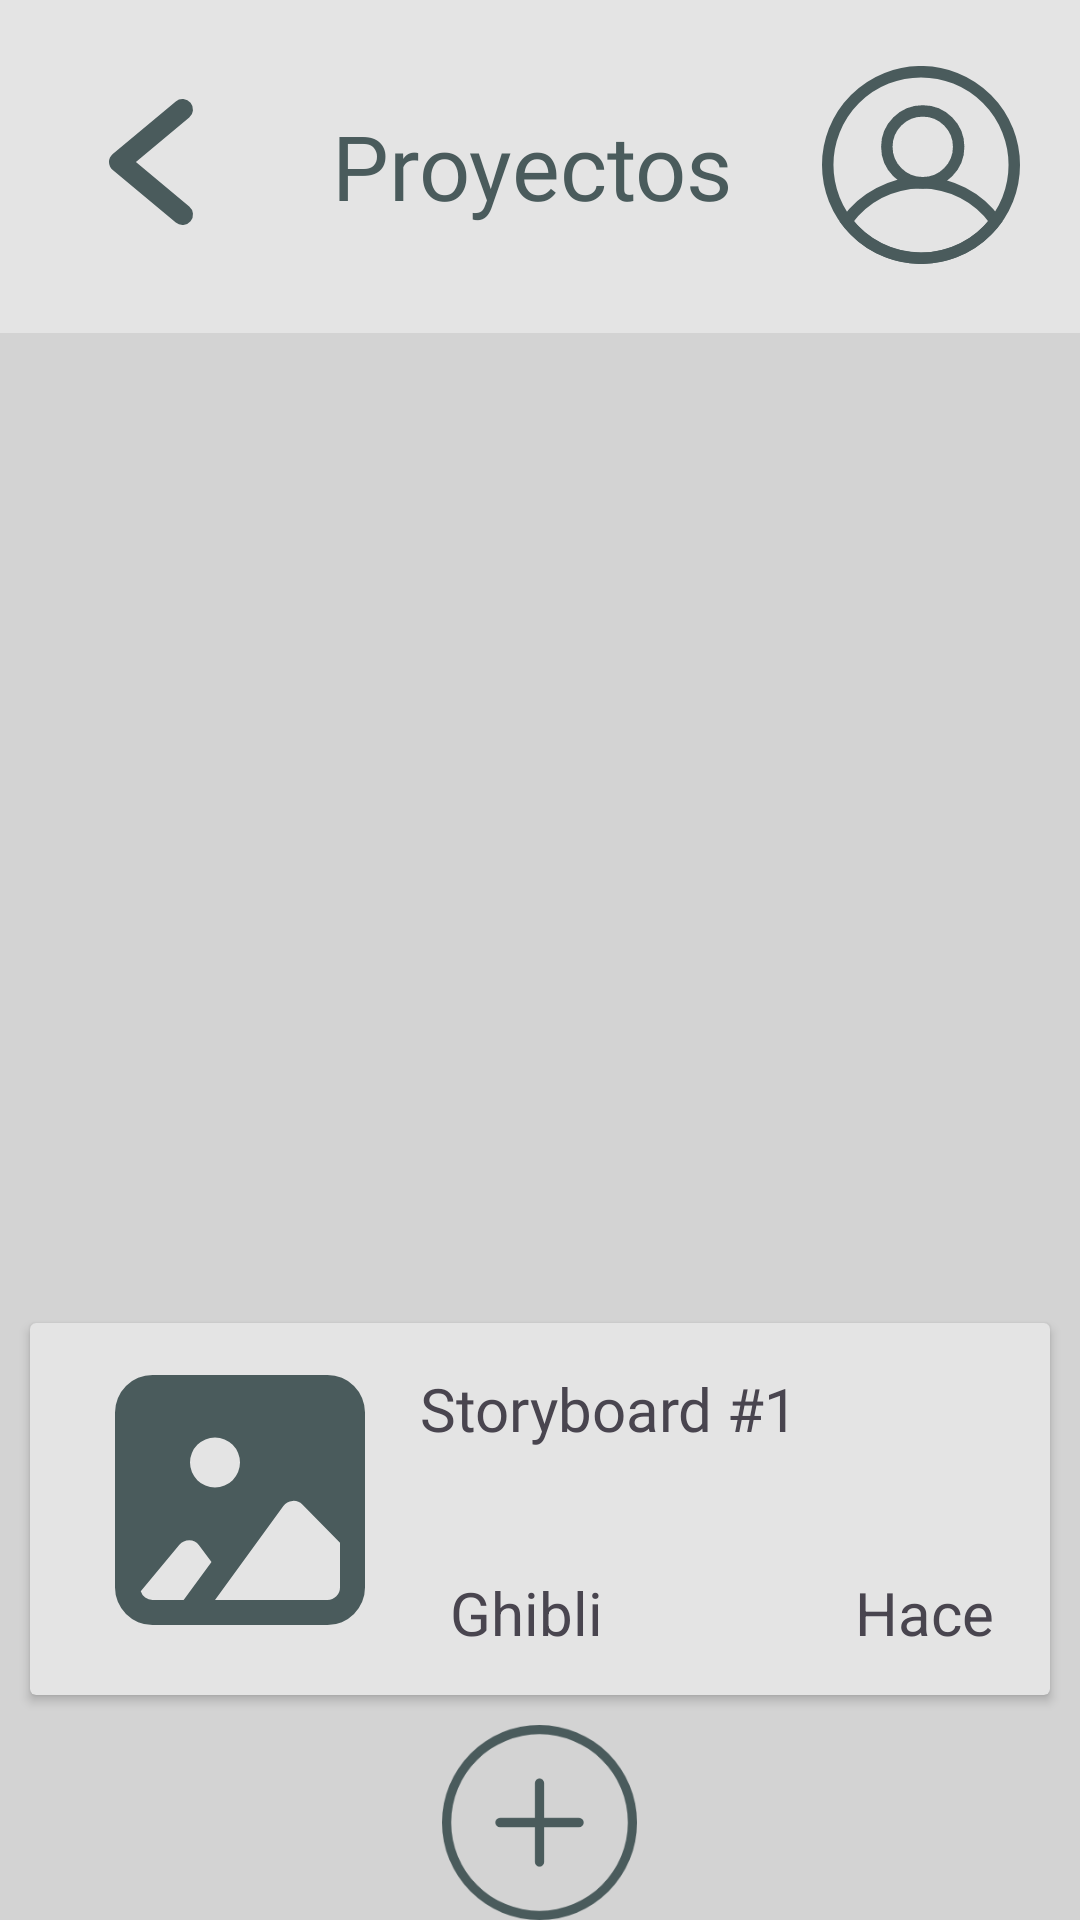

Named icons in this screenshot (1080 x 1920) and their centers, point (x, y):
add: point (539, 1822)
Flecha hacia atras: point (151, 162)
Imagen de perfil: point (921, 165)
Imagen del proyecto: point (240, 1500)
